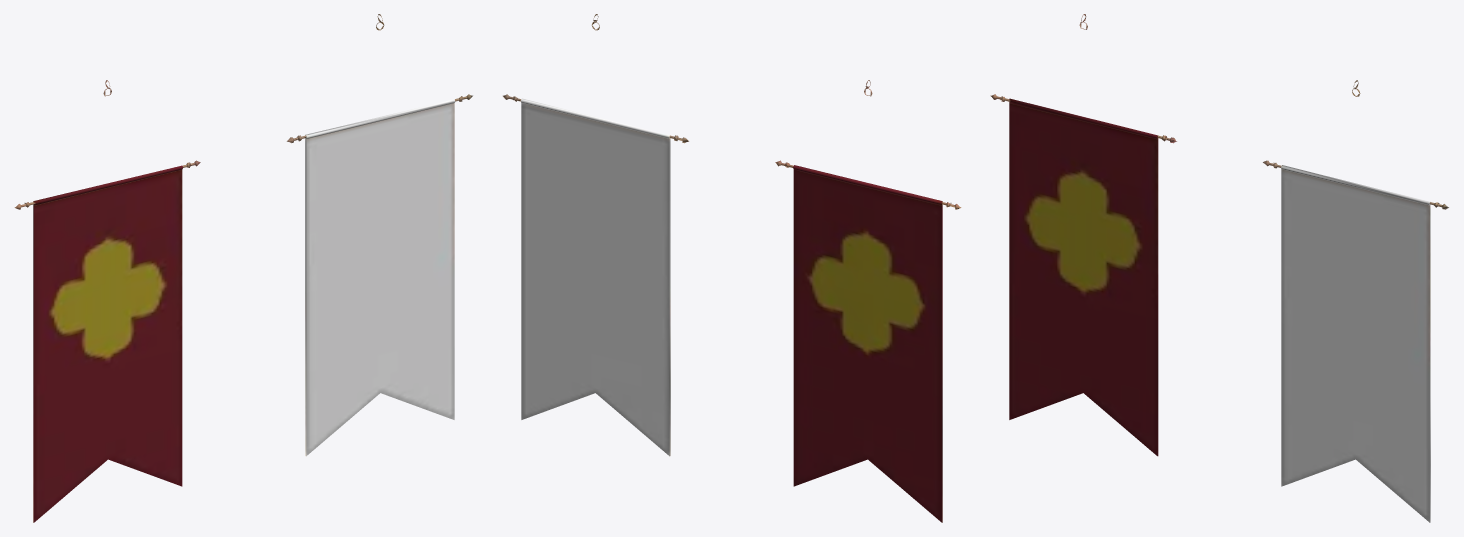
File: hanging-banner.lod1.glb
The picture shows the model from 3 angles, left to right: view 1: azimuth 30°, elevation 25°; view 2: azimuth 150°, elevation 25°; view 3: azimuth 330°, elevation 25°; orthographic projection.
Parts seen in each view (by area): view 1: Object_6, Object_4; view 2: Object_4, Object_6; view 3: Object_4, Object_6.
Part boxes in pixels (x1,y1,x2,y2): Object_6: (287,14,472,456); Object_4: (14,80,200,522); Object_4: (775,80,961,522); Object_6: (503,14,688,456); Object_4: (990,14,1176,456); Object_6: (1263,80,1448,522).
Size of the model in its own units: 5.67 by 5 by 0.1056.
2 materials, 2 textured.
